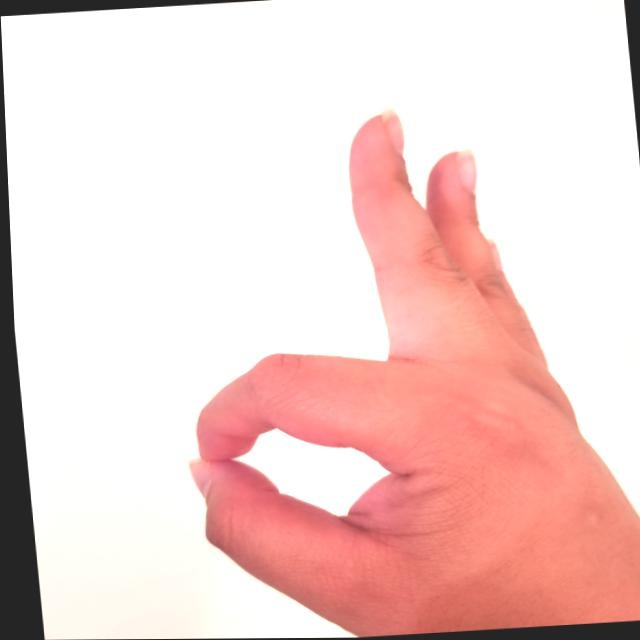F: (135, 84, 639, 639)
